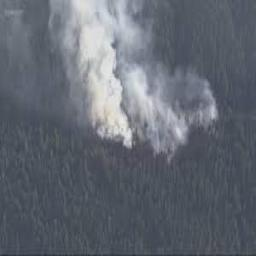Heavy smoke: (50, 2, 217, 148)
